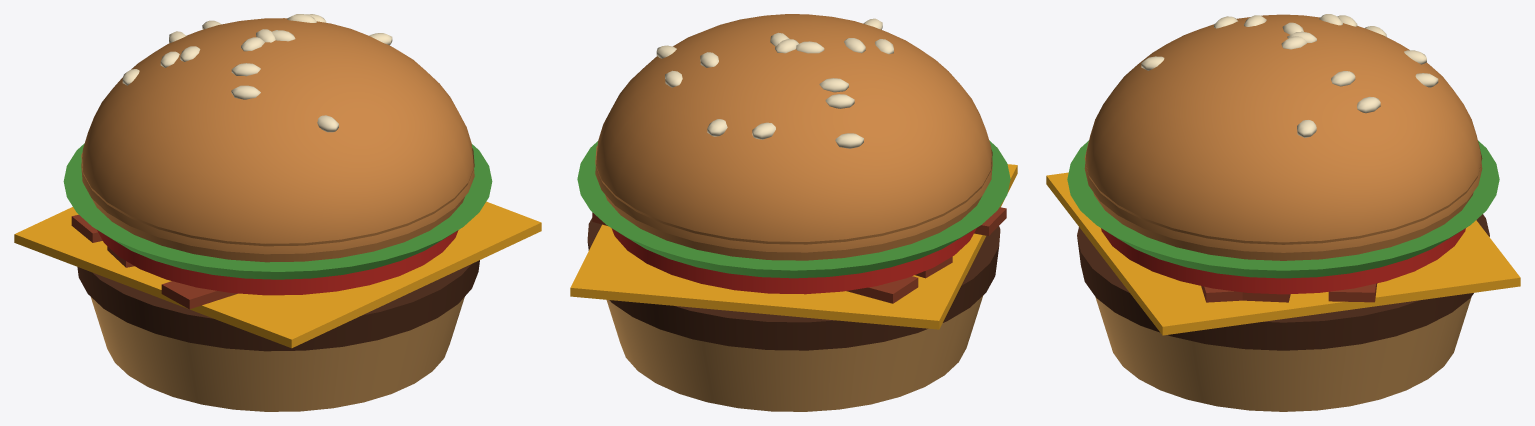
File: burger-smash.glb
3 views of the same model, side by side, from view 1: azimuth 30°, elevation 25°; view 2: azimuth 150°, elevation 25°; view 3: azimuth 270°, elevation 25° (orthographic).
Bounding box in the file's own units: 0.144 × 0.102 × 0.144.
